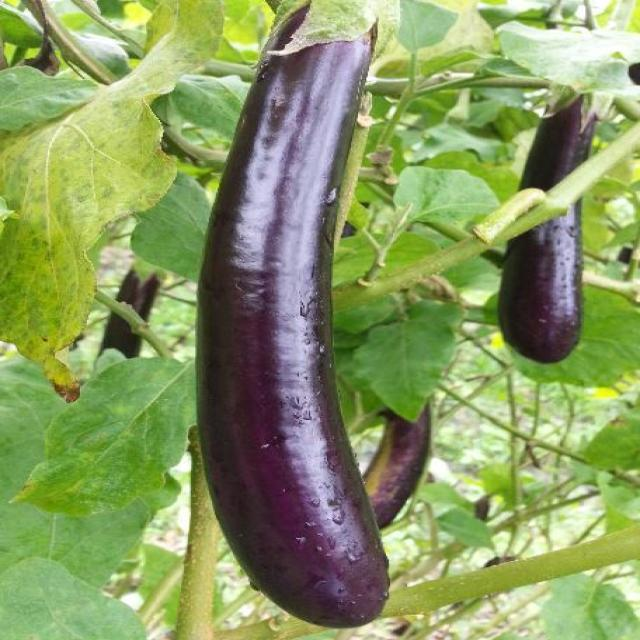eggplant: (181, 1, 411, 633), (480, 47, 616, 368)
